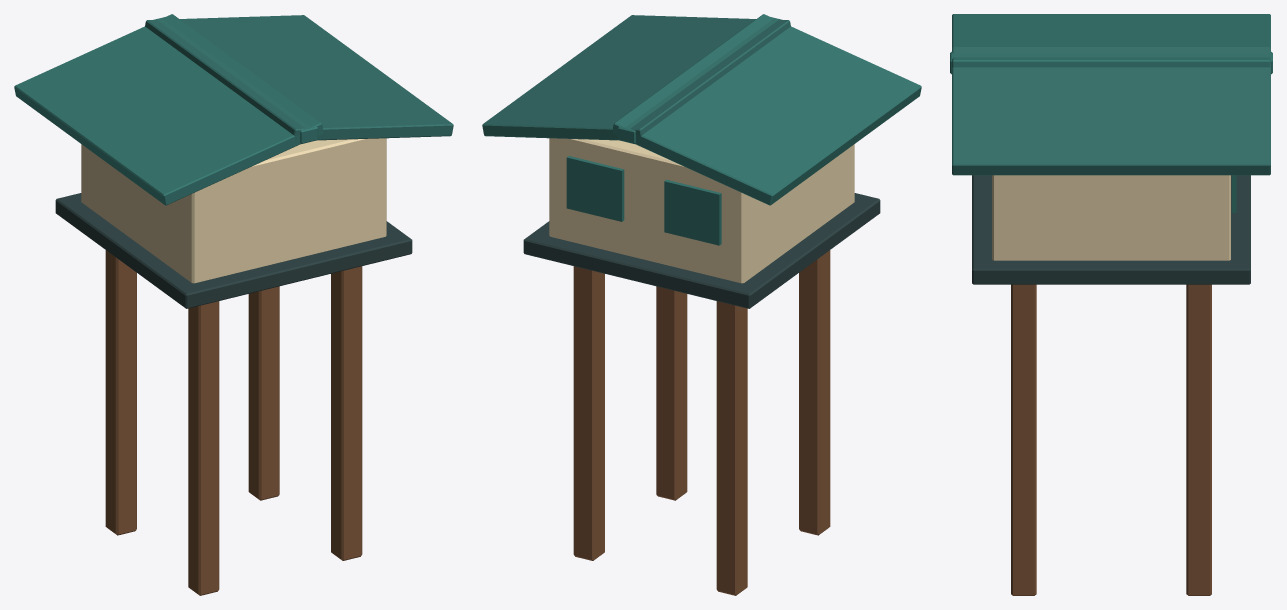
File: guard_tower.fbx
3 views of the same model, side by side, from view 1: azimuth 30°, elevation 25°; view 2: azimuth 150°, elevation 25°; view 3: azimuth 270°, elevation 25° (orthographic). The views are drawn at different scales.
Visible parts, largest first — view 1: RoofLeft, Cabin, RoofRight, Deck, Support.003, Support.001, Support, Support.002, RoofRidge; view 2: RoofLeft, Cabin, RoofRight, Deck, Support.002, Support, Support.001, Support.003, Window.001, Window, RoofRidge; view 3: RoofRight, Cabin, RoofLeft, Deck, Support.002, Support.003, RoofRidge.
Part boxes in pixels (<box>): RoofLeft: <box>14,14,323,205</box>; Cabin: <box>81,138,386,283</box>; RoofRight: <box>145,15,453,140</box>; Deck: <box>55,193,412,308</box>; Support.003: <box>331,266,362,560</box>; Support.001: <box>188,301,219,595</box>; Support: <box>105,250,136,535</box>; Support.002: <box>248,286,279,500</box>; RoofRidge: <box>153,17,318,143</box>; RoofLeft: <box>612,14,921,205</box>; Cabin: <box>549,138,854,283</box>; RoofRight: <box>482,15,790,140</box>; Deck: <box>523,193,880,308</box>; Support.002: <box>573,266,604,560</box>; Support: <box>716,301,747,595</box>; Support.001: <box>799,250,830,535</box>; Support.003: <box>656,286,687,500</box>; Window.001: <box>566,156,624,221</box>; Window: <box>664,179,721,245</box>; RoofRidge: <box>617,17,782,143</box>; RoofRight: <box>952,47,1270,175</box>; Cabin: <box>992,175,1230,260</box>; RoofLeft: <box>952,14,1270,67</box>; Deck: <box>972,175,1250,284</box>; Support.002: <box>1186,284,1211,595</box>; Support.003: <box>1011,284,1036,595</box>; RoofRidge: <box>950,51,1272,74</box>.
Size of the model in its own units: 896 by 1386 by 810.
